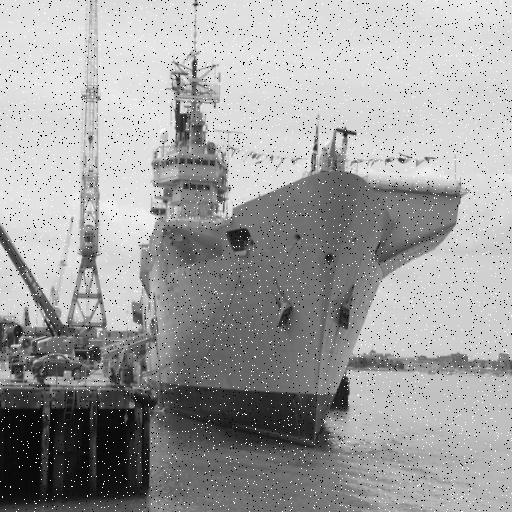Portanaves: (134, 1, 471, 459)
